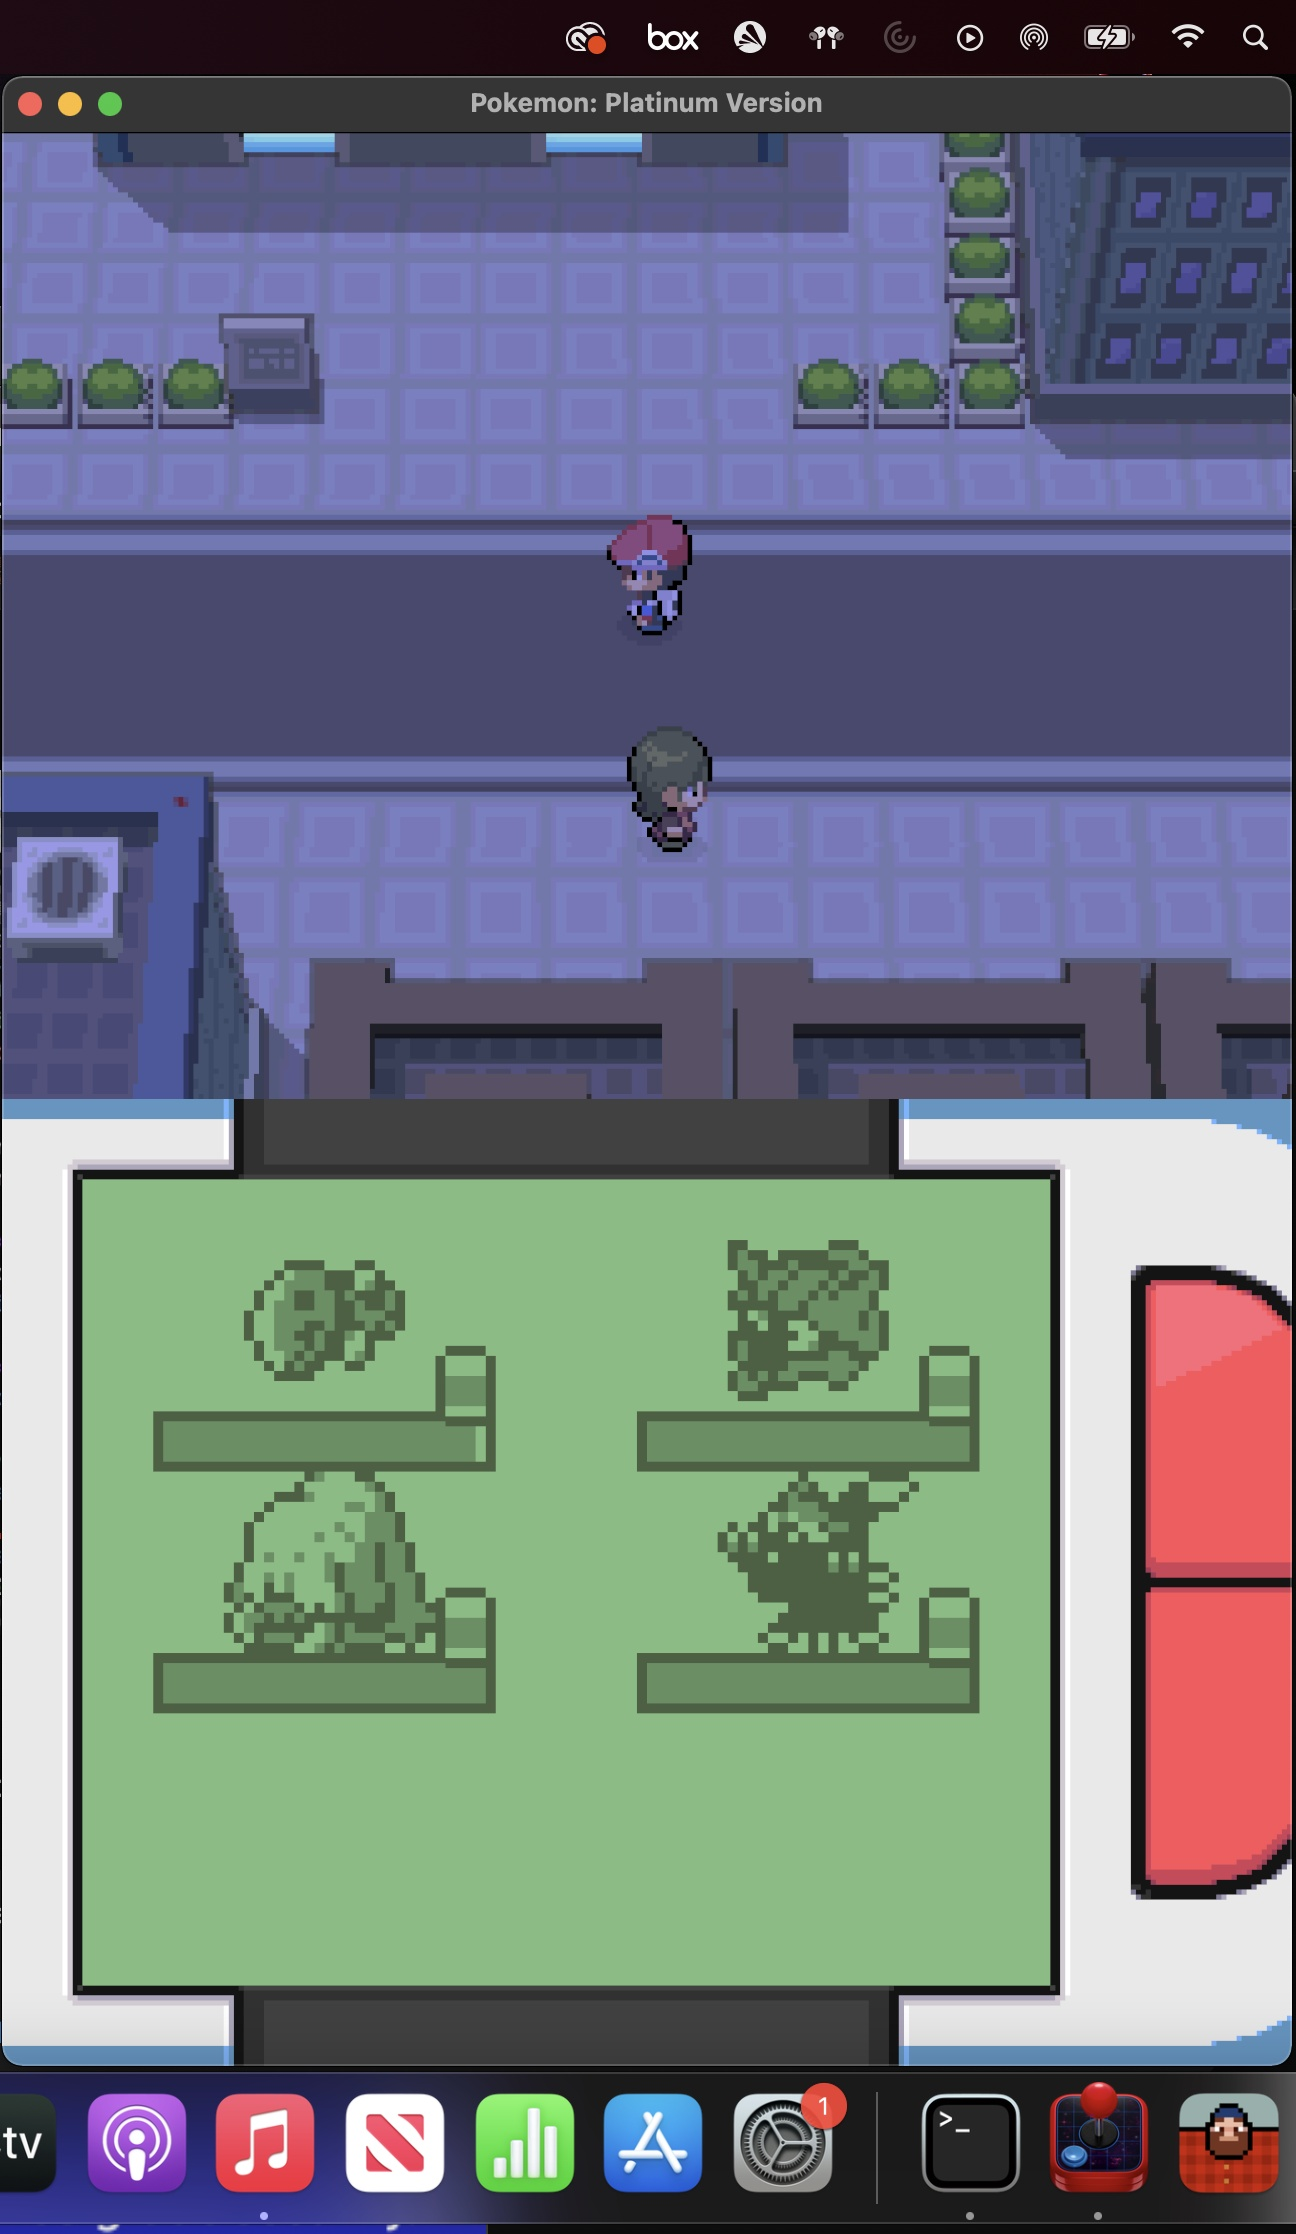player: (600, 512, 700, 641)
